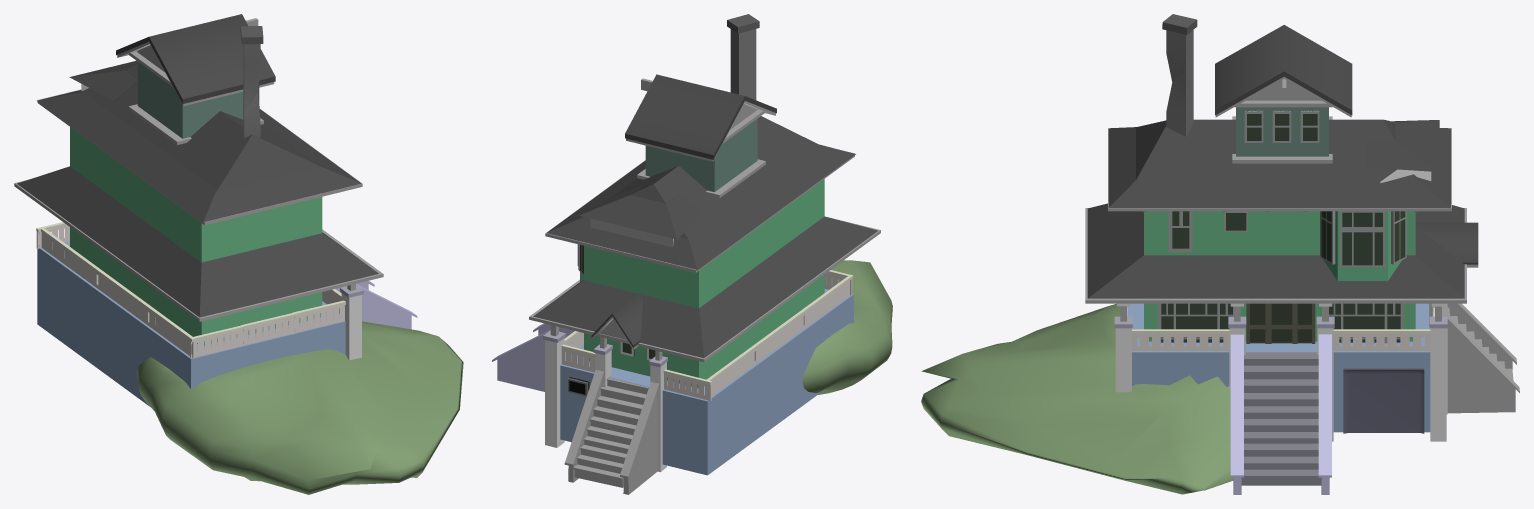
Rendered from un_show_mas_casa.fbx.
The picture shows the model from 3 angles, left to right: view 1: azimuth 30°, elevation 25°; view 2: azimuth 150°, elevation 25°; view 3: azimuth 270°, elevation 25°; orthographic projection. The views are drawn at different scales.
Visible parts, largest first — view 1: pSphere1, pCube41, pCube1, pCube3, pCube6, pCube50, pCube54, pCube2, pasted__pasted__pCube41 (×3), pCube5, pCube8, pCube53 (+7 smaller); view 2: pCube3, pCube41, pCube1, pCube6, pCube54, pSphere1, pCube50, pCube2, pCube53, pasted__pCube35 (×2), pasted__pCube24 (×2), pCube23 (+14 smaller); view 3: pSphere1, pCube41, pCube6, pCube50, pCube1, pCube3, pCube54, pCube11, pasted__pCube23 (×2), pCube24 (×2), pCube39 (×2), pCube53 (+26 smaller).
Part boxes in pixels (bbox=[...]): pSphere1: bbox=[137, 321, 463, 494]; pCube41: bbox=[17, 166, 378, 317]; pCube1: bbox=[70, 127, 322, 345]; pCube3: bbox=[37, 241, 345, 406]; pCube6: bbox=[37, 90, 361, 222]; pCube50: bbox=[81, 64, 322, 192]; pCube54: bbox=[116, 14, 275, 103]; pCube2: bbox=[137, 62, 243, 138]; pasted__pasted__pCube41 (×3): bbox=[190, 305, 344, 357]; pCube5: bbox=[14, 180, 383, 321]; pCube8: bbox=[243, 44, 260, 137]; pCube53: bbox=[69, 60, 137, 100]; pCube3: bbox=[560, 289, 853, 475]; pCube41: bbox=[533, 216, 877, 358]; pCube1: bbox=[584, 179, 824, 387]; pCube6: bbox=[547, 143, 855, 270]; pCube54: bbox=[625, 74, 776, 159]; pSphere1: bbox=[802, 260, 892, 394]; pCube50: bbox=[608, 116, 817, 238]; pCube2: bbox=[645, 118, 757, 192]; pCube53: bbox=[579, 185, 702, 239]; pasted__pCube35 (×2): bbox=[545, 338, 666, 472]; pasted__pCube24 (×2): bbox=[564, 370, 659, 478]; pCube23: bbox=[497, 327, 574, 391]; pSphere1: bbox=[921, 303, 1233, 494]; pCube41: bbox=[1087, 203, 1464, 298]; pCube6: bbox=[1108, 127, 1451, 207]; pCube50: bbox=[1135, 119, 1417, 181]; pCube1: bbox=[1144, 211, 1415, 341]; pCube3: bbox=[1127, 303, 1430, 432]; pCube54: bbox=[1215, 25, 1352, 115]; pCube11: bbox=[1343, 368, 1424, 433]; pasted__pCube23 (×2): bbox=[1429, 303, 1515, 413]; pCube24 (×2): bbox=[1230, 334, 1331, 477]; pCube39 (×2): bbox=[1132, 333, 1430, 350]; pCube53: bbox=[1366, 120, 1439, 171].
Bounding box in the file's own units: 27.66 × 33.22 × 44.75.
